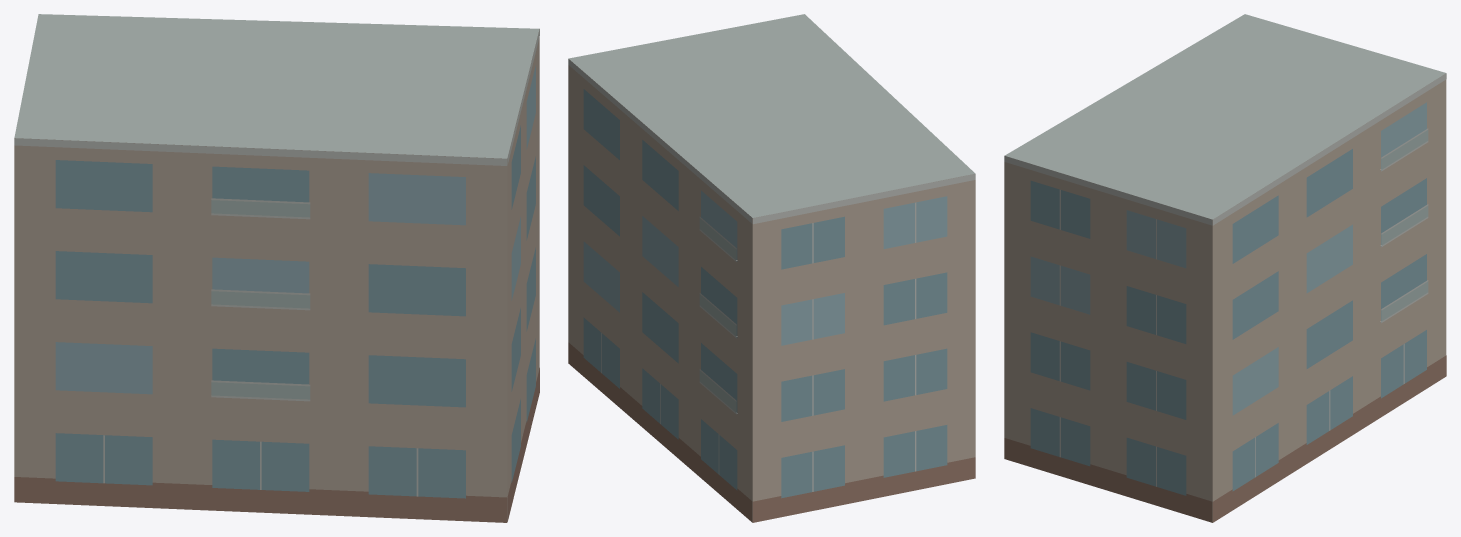
The model's file is survey-upis-33011059.glb.
The picture shows the model from 3 angles, left to right: view 1: azimuth 30°, elevation 25°; view 2: azimuth 150°, elevation 25°; view 3: azimuth 270°, elevation 25°; orthographic projection. The views are drawn at different scales.
Visible parts, largest first — view 1: survey-upis-33011059.tmp; view 2: survey-upis-33011059.tmp; view 3: survey-upis-33011059.tmp.
Boxes of the visible parts, x1,y1,x2,y2 form: survey-upis-33011059.tmp: [14, 14, 539, 522]; survey-upis-33011059.tmp: [568, 14, 975, 522]; survey-upis-33011059.tmp: [1004, 14, 1446, 522].
Bounding box in the file's own units: 17.46 × 12 × 15.86.
